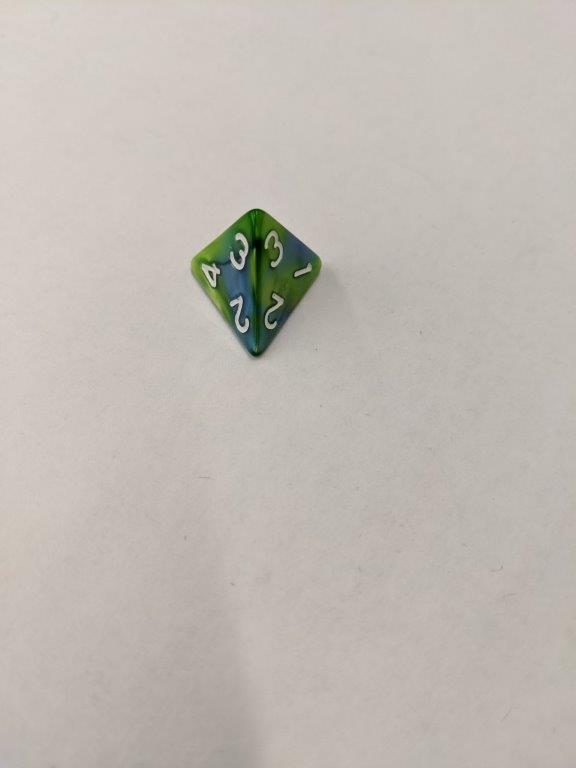d4-3: (188, 206, 323, 361)
